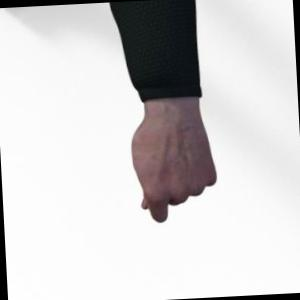rock: (109, 0, 216, 222)
